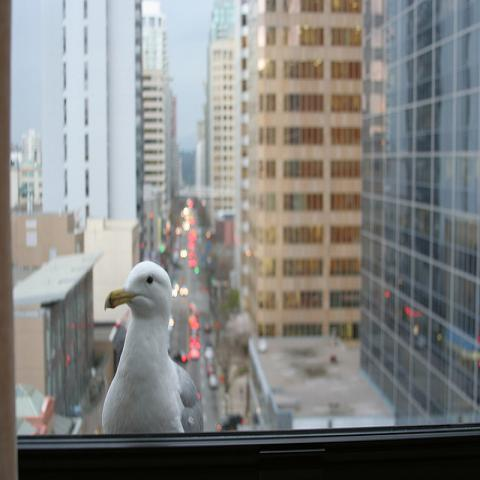car: (214, 410, 238, 431), (170, 348, 190, 363), (203, 340, 215, 362), (206, 373, 219, 389), (190, 317, 199, 330), (189, 349, 200, 359), (207, 364, 214, 376), (180, 248, 188, 258), (204, 321, 210, 333), (192, 264, 197, 272)
